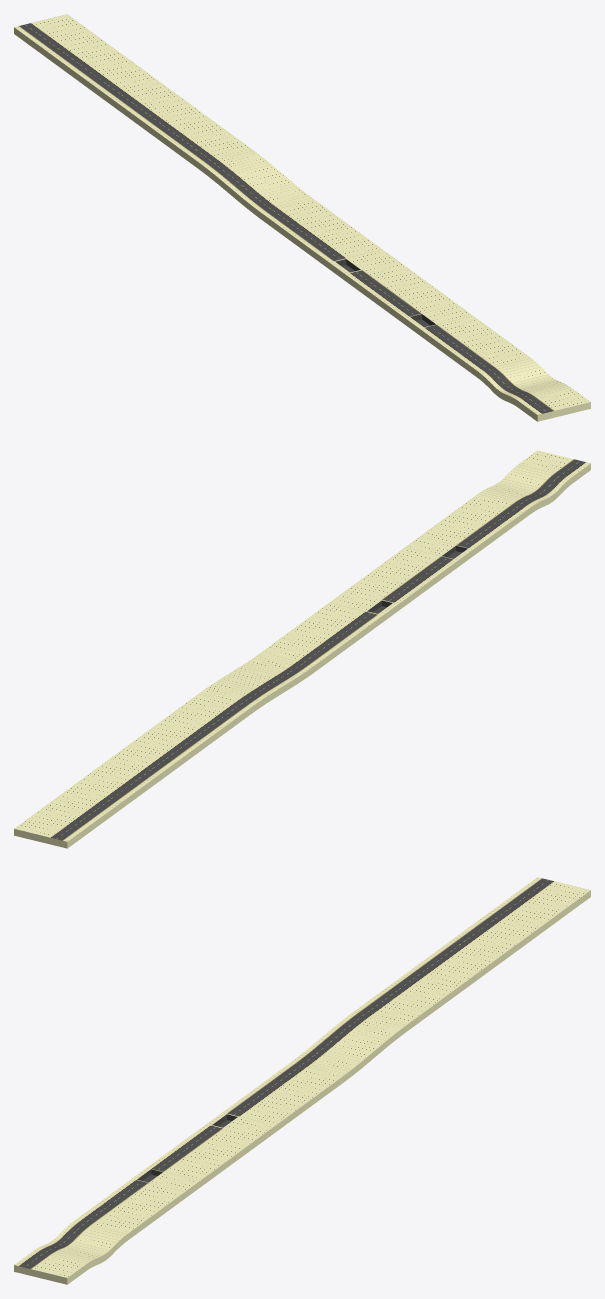
Rendered from envi1_2.fbx.
3 renders of one model, top to bottom at view 1: azimuth 30°, elevation 25°; view 2: azimuth 150°, elevation 25°; view 3: azimuth 330°, elevation 25°, orthographic.
Visible parts, largest first — view 1: Cube, Cube.001; view 2: Cube, Cube.001; view 3: Cube, Cube.001.
Boxes of the visible parts, x1,y1,x2,y2 form: Cube: (14, 14, 590, 421); Cube.001: (18, 23, 554, 413); Cube: (14, 450, 590, 848); Cube.001: (50, 459, 586, 840); Cube: (14, 877, 590, 1284); Cube.001: (18, 878, 554, 1269).
Bounding box in the file's own units: 1648 × 445 × 27925.
Materials: 1 (1 with a texture image).
